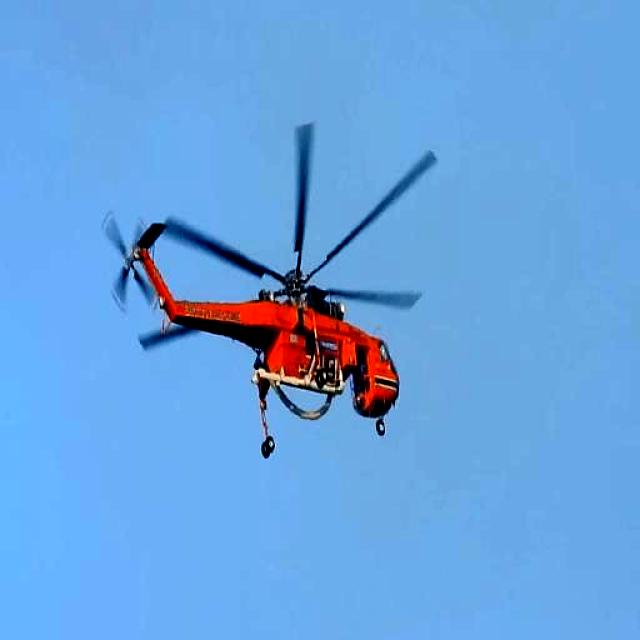drone: (98, 116, 441, 464)
